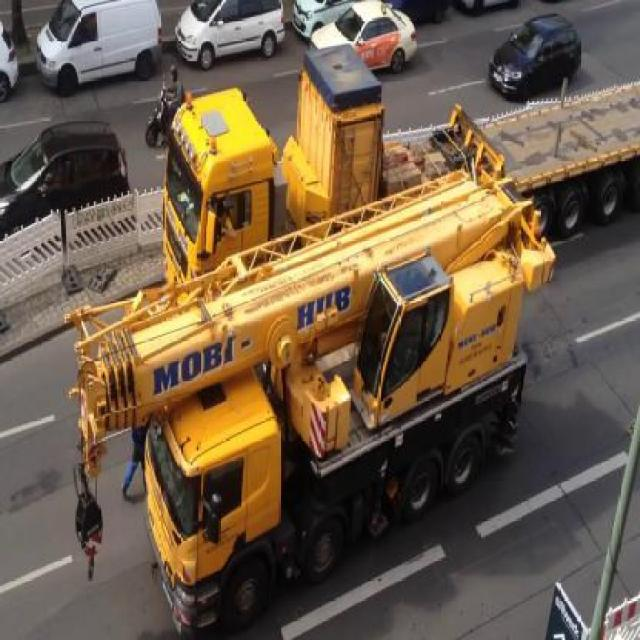Mobile Crane: (75, 166, 550, 640)
